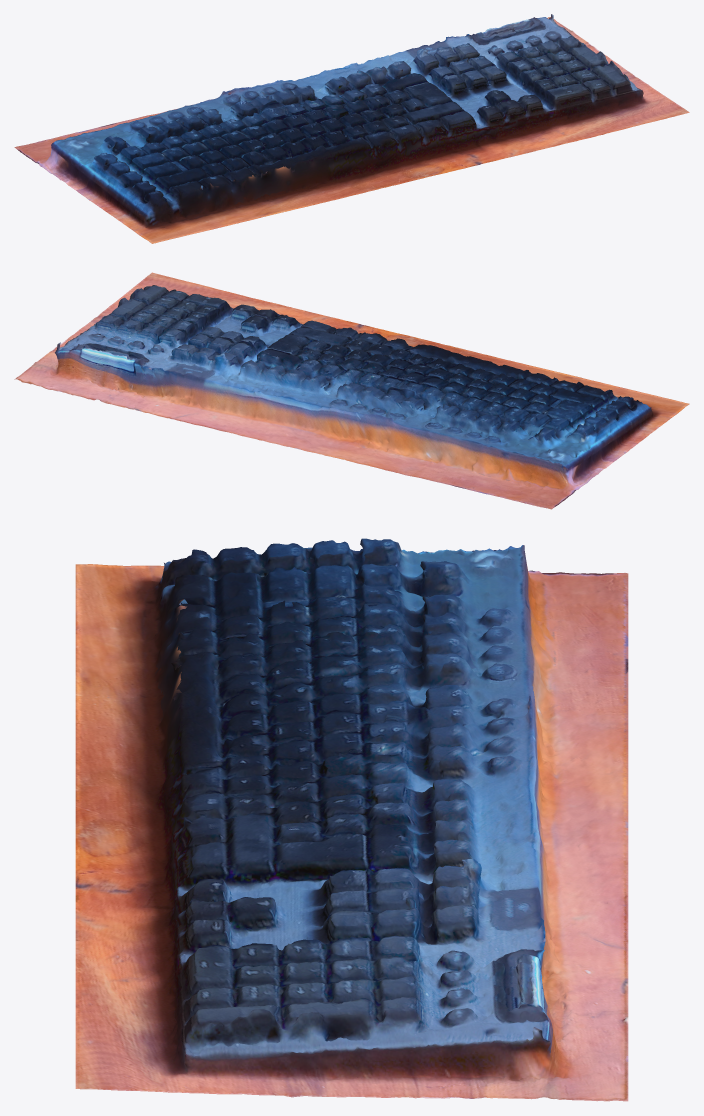
The model's file is sketchfab-logitech-g915.glb.
The picture shows the model from 3 angles, top to bottom: view 1: azimuth 30°, elevation 25°; view 2: azimuth 150°, elevation 25°; view 3: azimuth 270°, elevation 25°; orthographic projection. The views are drawn at different scales.
Parts seen in each view (by area): view 1: Object_4, Object_5; view 2: Object_4, Object_5; view 3: Object_4, Object_5.
Boxes of the visible parts, x1,y1,x2,y2 form: Object_4: [14, 14, 689, 243]; Object_5: [60, 17, 592, 145]; Object_4: [28, 272, 689, 509]; Object_5: [14, 310, 563, 463]; Object_4: [75, 538, 628, 1100]; Object_5: [350, 550, 628, 1101].
Bounding box in the file's own units: 0.4907 × 0.0379 × 0.2183.
1 material, 1 textured.
